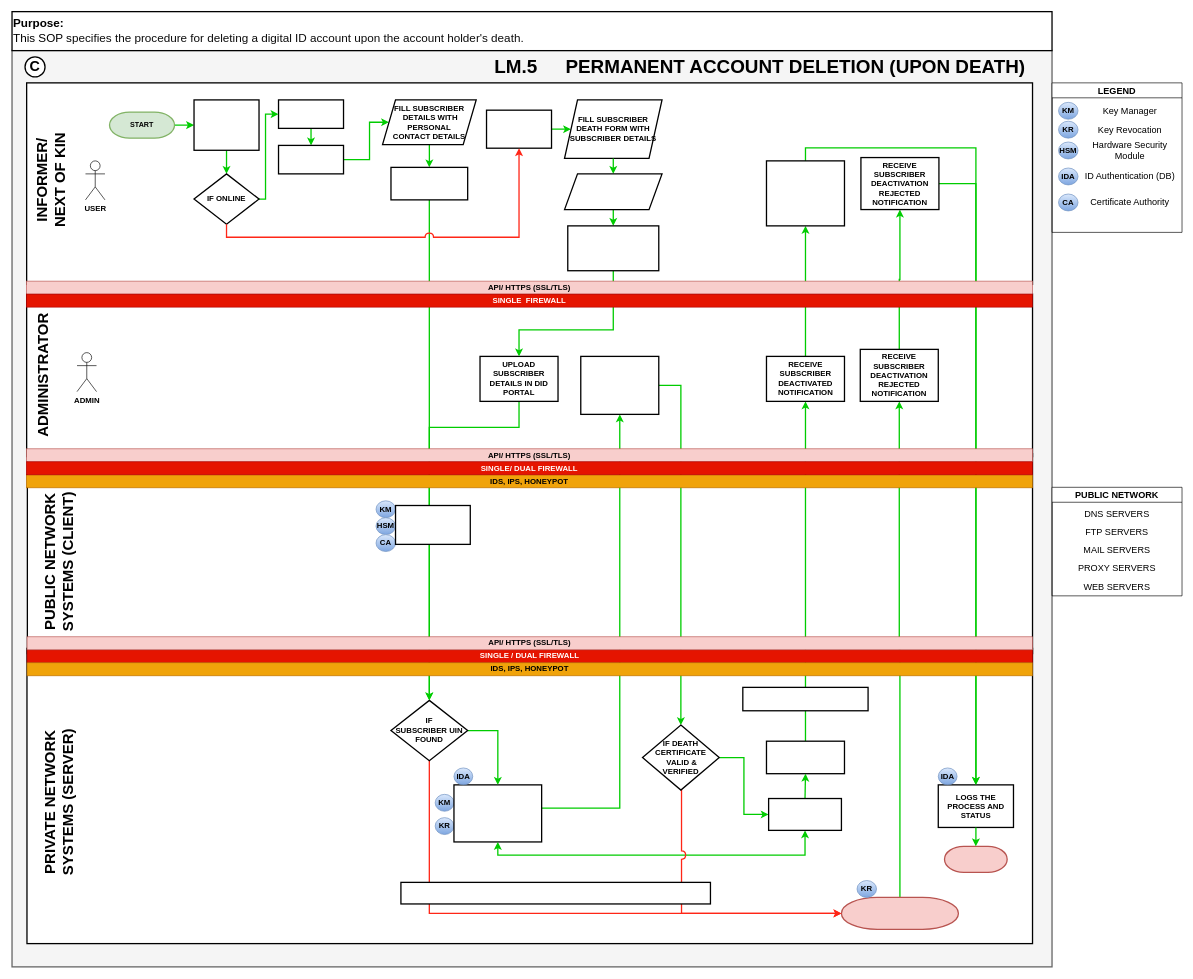
The diagram is 1193 pixels wide and 979 high, and some of its shapes have lost their labels. The shapes that lost their labels are listed below. From the top down, each one's centre as x and y in pixels, then its label:
At [226,125]: "OBTAIN CERTIFICATE OF DEATH WITH ISSUER DETAILS".
At [311,114]: "VISIT DID PORTAL".
At [519,129]: "VISIT DID/3RD PARTY ACCOUNT".
At [311,159]: "CLICK REPORT DEATH".
At [429,183]: "UPLOAD DEATH CERTIFICATE".
At [613,191]: "FILL PERSONAL CONTACT DETAILS".
At [805,193]: "RECEIVE SUBSCRIBER DEACTIVATED CONFIRMATION ON PERSONAL CONTACT".
At [613,248]: "SUBMIT FILLED FORM WITH DEATH CERTIFICATE".
At [619,385]: "VALIDATE AND VERIFY DEATH CERTIFICATE BY LIASING WITH ISSUING AUTHORITY".
At [433,525]: "MASK & ENCRYPT SUBSCRIBER DETAILS".
At [805,698]: "NOTIFICATION GENERATOR".
At [805,757]: "INFORM ALL THE AUTHENTICATED VERIFIERS".
At [497,813]: "STORE SUBSCRIBER DEATH CERTIFICATE IN UIN ACCOUNT WITH ENCRYPTION AND HASHING".
At [805,814]: "DEACTIVATE UIN ACCOUNT & AUTHENTICATORS".
At [976,859]: "END".
At [555,892]: "EXCEPTION AND ERROR HANDLING".
At [899,913]: "TERMINATE PROCESS: REJECT REQUEST".
